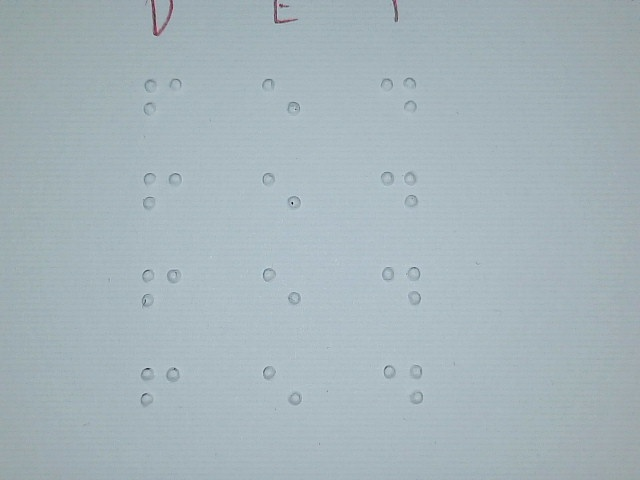D: (378, 65, 422, 139), (378, 158, 422, 232), (379, 254, 423, 328), (382, 353, 426, 427)
E: (259, 65, 303, 139), (261, 159, 305, 233), (260, 255, 304, 329), (260, 353, 304, 427)
F: (142, 67, 186, 141), (141, 159, 185, 233), (140, 255, 184, 329), (138, 353, 182, 427)
